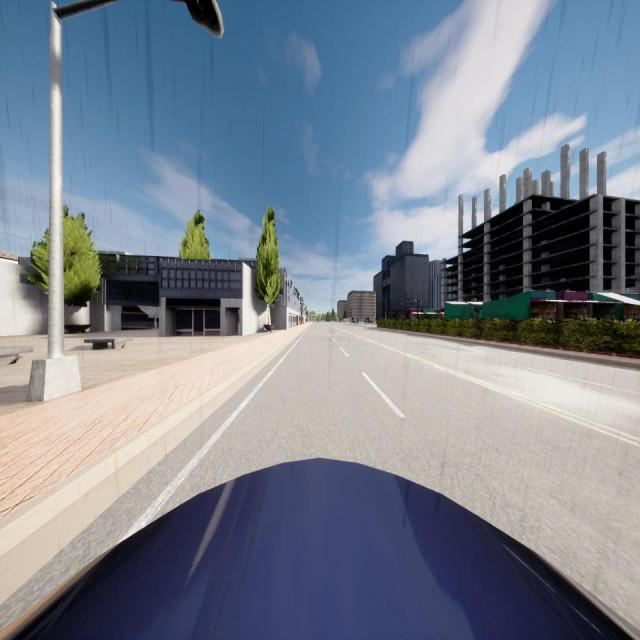Vehicle: (0, 456, 640, 640), (364, 317, 375, 323), (351, 319, 359, 323)
